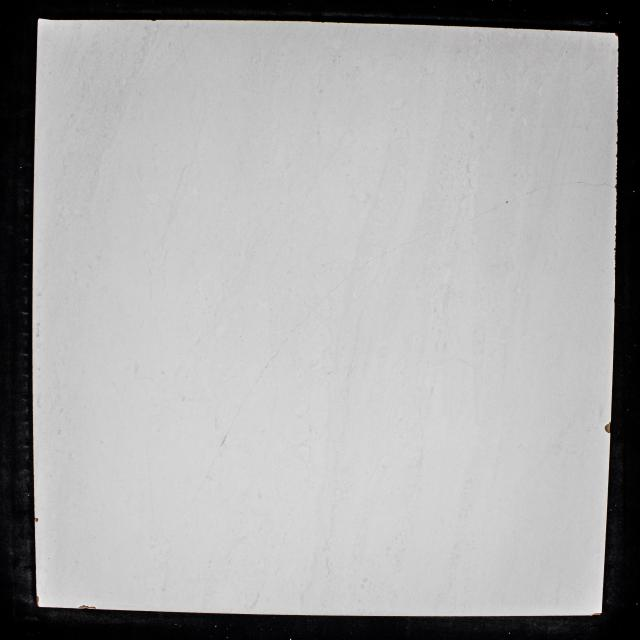edge-chipping: (77, 604, 96, 609), (604, 422, 611, 434), (590, 612, 602, 616), (36, 596, 39, 606), (34, 517, 39, 522), (614, 33, 618, 37), (615, 153, 618, 158), (614, 247, 616, 251), (617, 48, 619, 52)
line: (201, 379, 258, 486), (259, 301, 319, 379), (320, 252, 382, 301), (468, 187, 541, 220), (385, 234, 430, 253), (544, 181, 614, 187)
